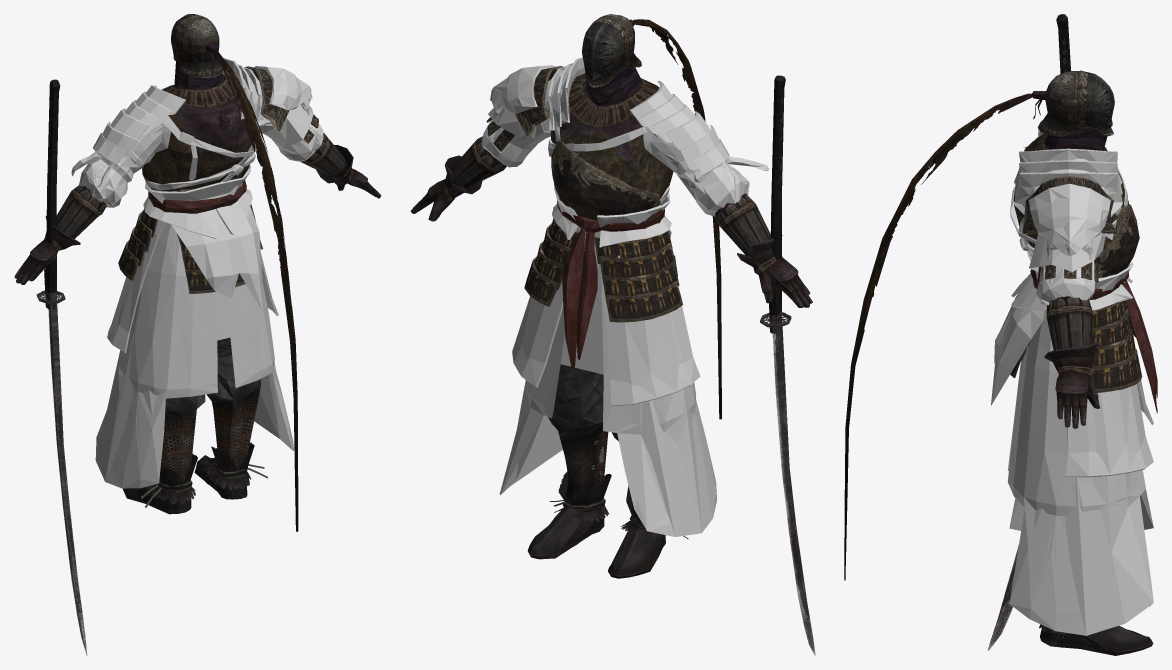
File: Alonne.obj
The picture shows the model from 3 angles, left to right: view 1: azimuth 30°, elevation 25°; view 2: azimuth 150°, elevation 25°; view 3: azimuth 270°, elevation 25°; orthographic projection. The views are drawn at different scales.
Visible parts, largest first — view 1: BD_6800_M_1_Alp_1bit_twoside_Cloth, BD_6800_M_1_twoside, LG_6800_M, BD_6800_M_2, LG_6800_M_Alp_1bit_twoside, WP_1790_M, BD_6800_M_2_twoside_LV5, BD_6800_M_1, BD_6800_M_1_Alp_1bit_twoside, LG_6800_M_twoside; view 2: BD_6800_M_1_twoside, LG_6800_M, BD_6800_M_1_Alp_1bit_twoside_Cloth, BD_6800_M_2_twoside_LV5, BD_6800_M_2, WP_1790_M, BD_6800_M_1, LG_6800_M_Alp_1bit_twoside, LG_6800_M_twoside, BD_6800_M_1_Alp_1bit_twoside; view 3: BD_6800_M_1_Alp_1bit_twoside_Cloth, BD_6800_M_1_twoside, LG_6800_M, BD_6800_M_2_twoside_LV5, LG_6800_M_Alp_1bit_twoside, BD_6800_M_1_Alp_1bit_twoside, BD_6800_M_2, LG_6800_M_twoside, BD_6800_M_1, WP_1790_M.
Part boxes in pixels (x1,y1,x2,y2): BD_6800_M_1_Alp_1bit_twoside_Cloth: (95, 268, 293, 488); BD_6800_M_1_twoside: (71, 58, 312, 353); LG_6800_M: (14, 14, 381, 514); BD_6800_M_2: (142, 75, 251, 191); LG_6800_M_Alp_1bit_twoside: (147, 50, 298, 531); WP_1790_M: (36, 79, 87, 655); BD_6800_M_2_twoside_LV5: (118, 66, 318, 293); BD_6800_M_1: (79, 86, 323, 207); BD_6800_M_1_Alp_1bit_twoside: (172, 104, 313, 312); LG_6800_M_twoside: (30, 145, 367, 507); BD_6800_M_1_twoside: (490, 57, 769, 406); LG_6800_M: (410, 14, 812, 578); BD_6800_M_1_Alp_1bit_twoside_Cloth: (499, 323, 716, 536); BD_6800_M_2_twoside_LV5: (486, 66, 683, 371); BD_6800_M_2: (551, 73, 673, 219); WP_1790_M: (760, 75, 815, 655); BD_6800_M_1: (481, 77, 749, 216); LG_6800_M_Alp_1bit_twoside: (554, 19, 721, 537); LG_6800_M_twoside: (427, 155, 798, 538); BD_6800_M_1_Alp_1bit_twoside: (488, 108, 671, 237); BD_6800_M_1_Alp_1bit_twoside_Cloth: (1007, 354, 1153, 635); BD_6800_M_1_twoside: (996, 129, 1153, 477); LG_6800_M: (1031, 70, 1153, 655); BD_6800_M_2_twoside_LV5: (1010, 176, 1157, 413); LG_6800_M_Alp_1bit_twoside: (844, 93, 1068, 633); BD_6800_M_1_Alp_1bit_twoside: (991, 233, 1105, 405); BD_6800_M_2: (1014, 133, 1139, 278); LG_6800_M_twoside: (1044, 342, 1099, 646); BD_6800_M_1: (1036, 261, 1095, 306); WP_1790_M: (987, 14, 1070, 650).
Size of the model in its own units: 2.35 by 3.55 by 1.53.
